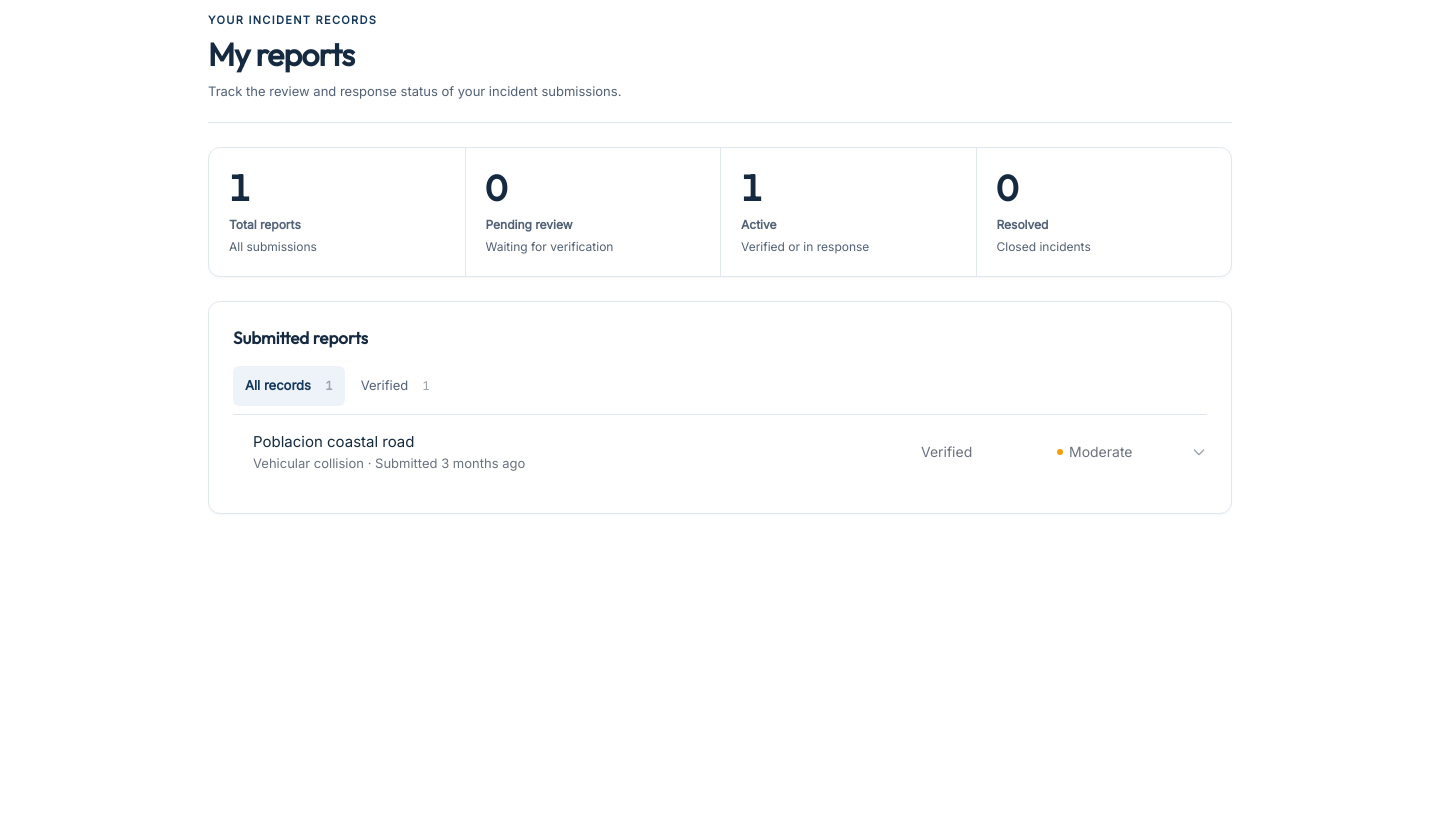
Test case: reporter situation update flow › collapses expanded report when clicked again
The width and height of the screenshot is (1440, 822).
Click the heading "Poblacion coastal road".
click(334, 441)  # box [253, 432, 414, 451]
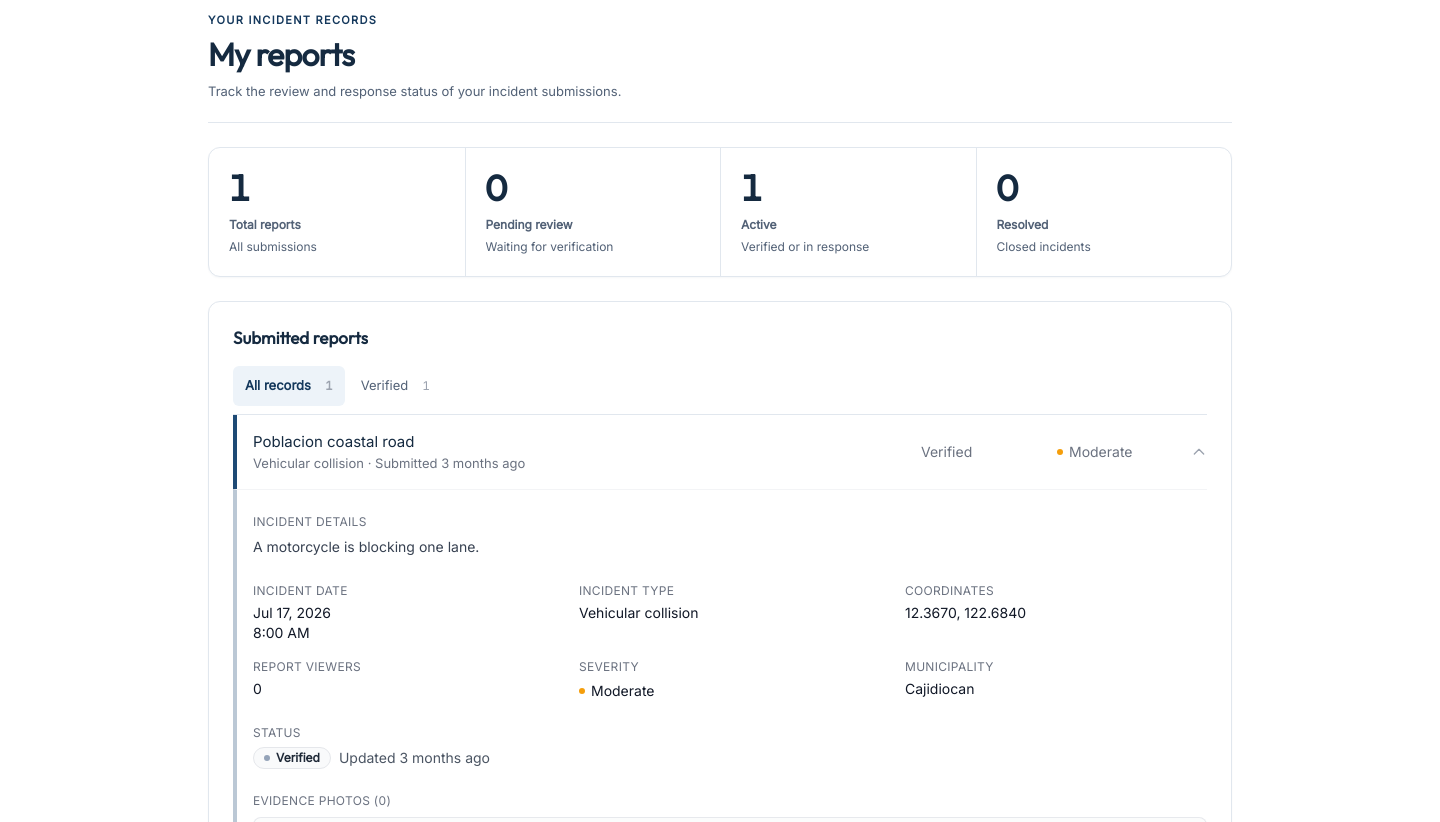
Result: the heading "Incident details" is shown at [253, 514, 367, 529]
Result: the text "A motorcycle is blocking one lane." is shown at [253, 538, 479, 555]
Note: Click again to collapse
Click the heading "Poblacion coastal road".
click(334, 441)  # box [253, 432, 414, 451]
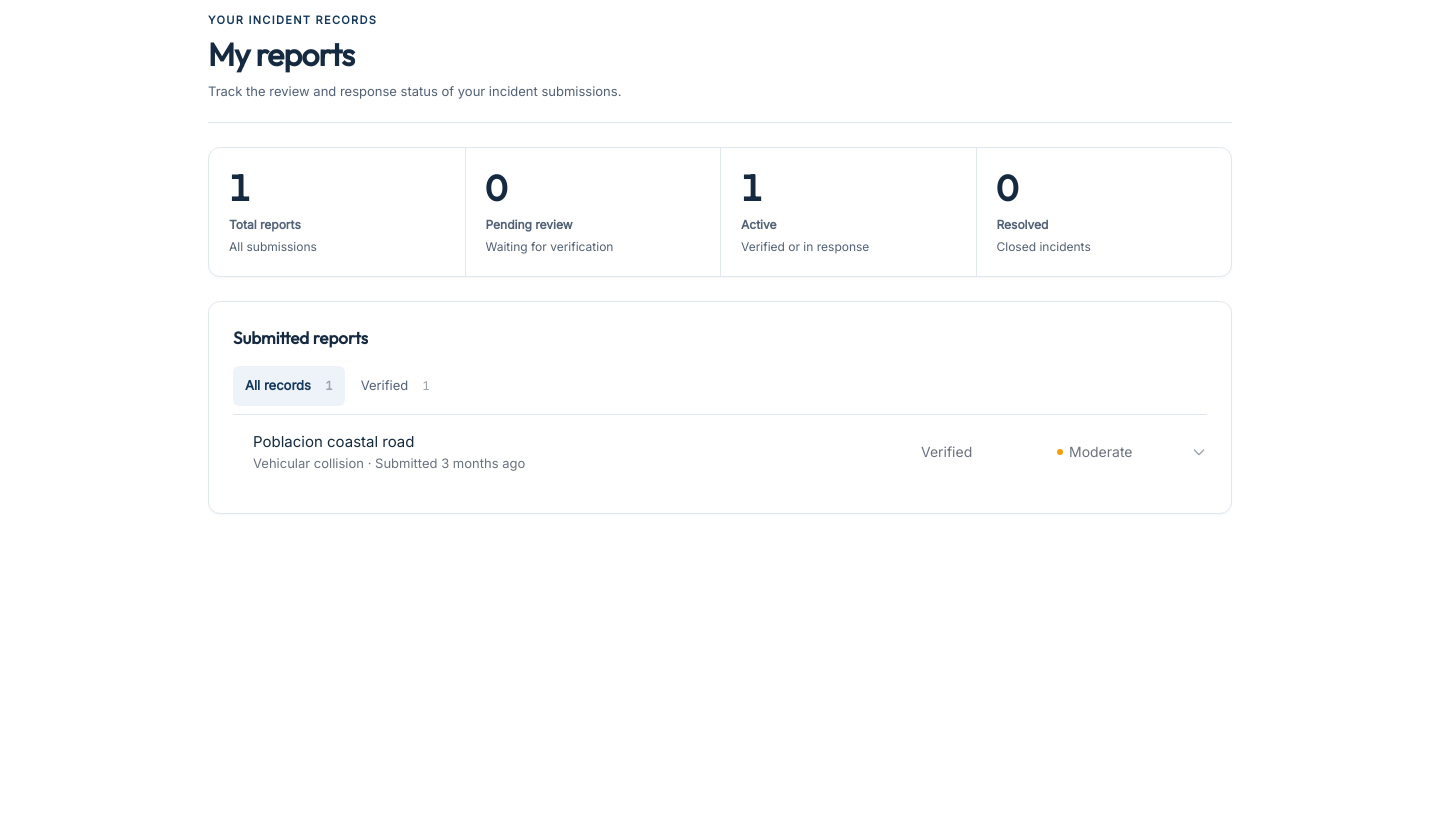
Result: the heading "Incident details" is gone
